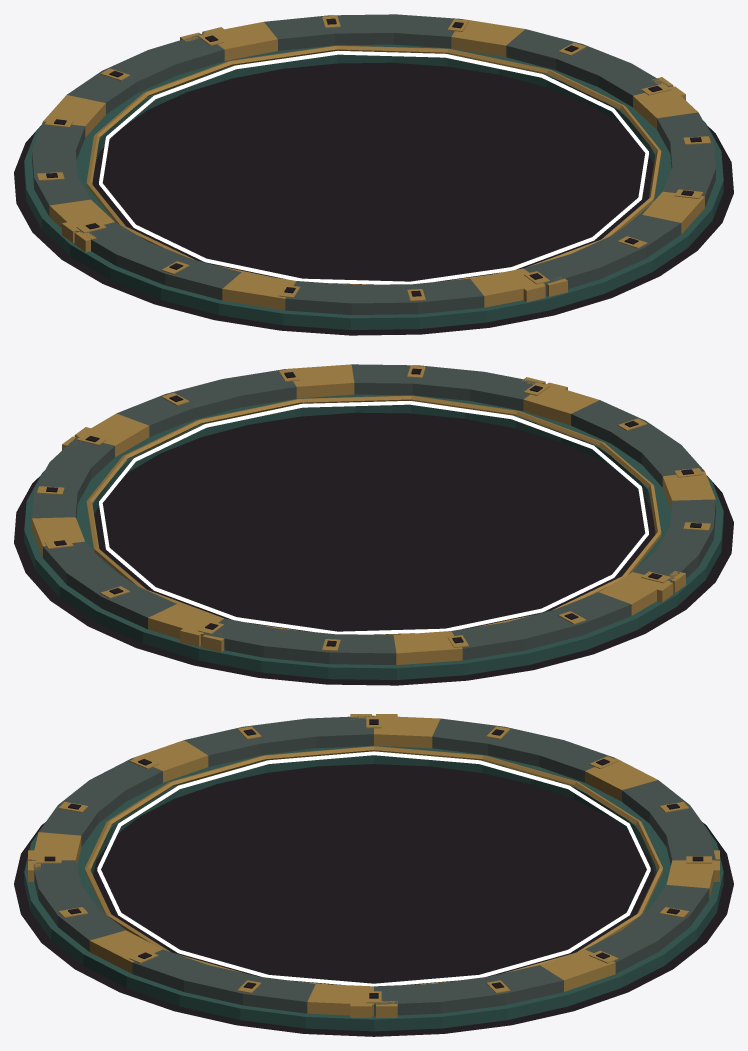
Rendered from dungeon-room-kit.glb.
3 views of the same model, one above another, from view 1: azimuth 30°, elevation 25°; view 2: azimuth 150°, elevation 25°; view 3: azimuth 270°, elevation 25° (orthographic).
Visible parts, largest first — view 1: portal-plinth-stone, portal-plinth-glow; view 2: portal-plinth-stone, portal-plinth-glow; view 3: portal-plinth-stone, portal-plinth-glow.
Part boxes in pixels (x1,y1,x2,y2): portal-plinth-stone: (14, 14, 733, 335); portal-plinth-glow: (99, 51, 648, 284); portal-plinth-stone: (14, 364, 733, 685); portal-plinth-glow: (99, 401, 648, 634); portal-plinth-stone: (14, 714, 733, 1036); portal-plinth-glow: (97, 751, 650, 986).
Bounding box in the file's own units: 5.6 × 0.235 × 5.6.
